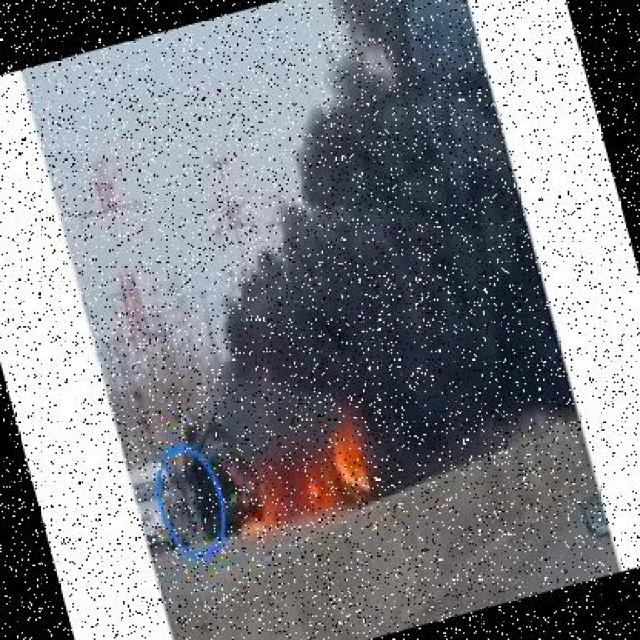fire: (211, 394, 383, 549)
